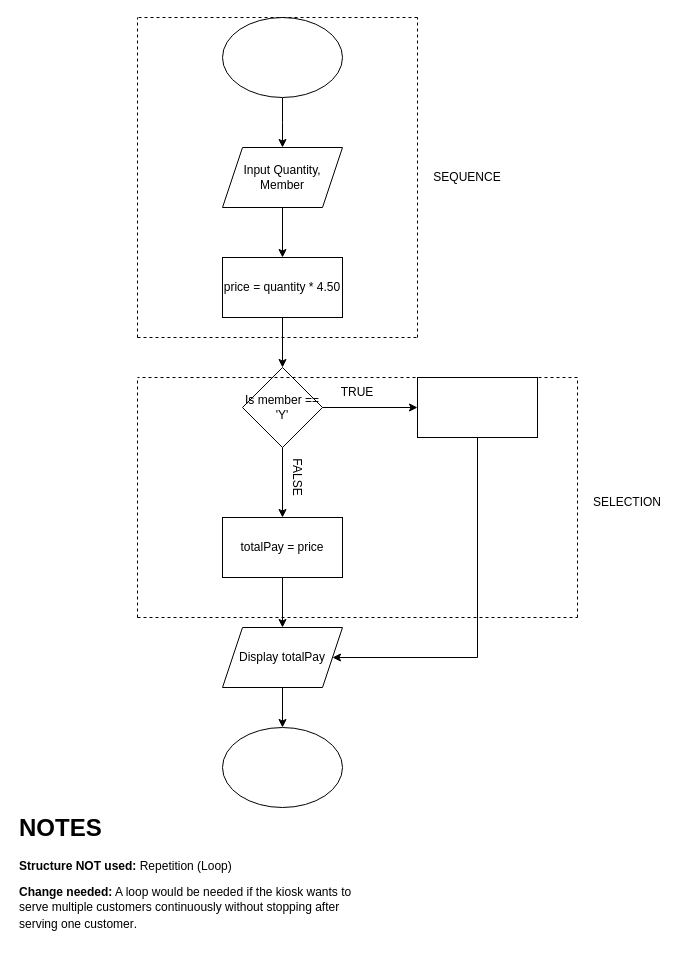
Image size: 678x968. Some labels were removed from this diagram. Each missing label, with the box of its shape:
BEGIN: (222, 16, 342, 98)
END: (222, 726, 342, 808)
totalPay = price * 0.90: (416, 376, 538, 438)
